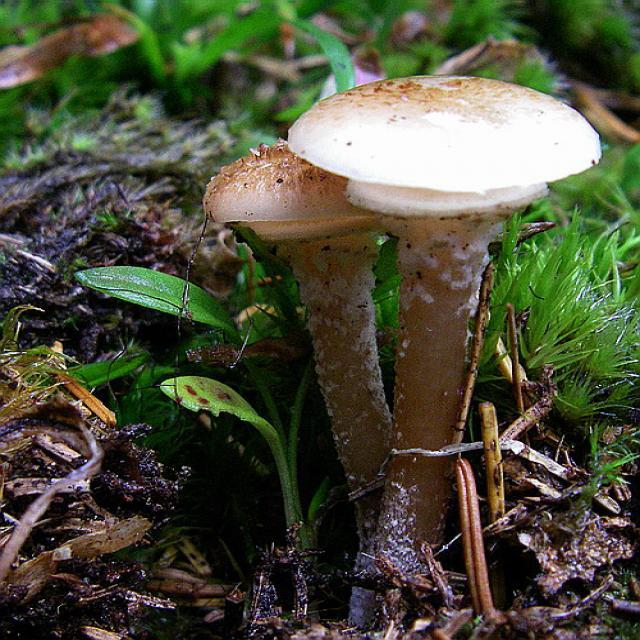Armillaria mellea: (210, 72, 601, 599)
